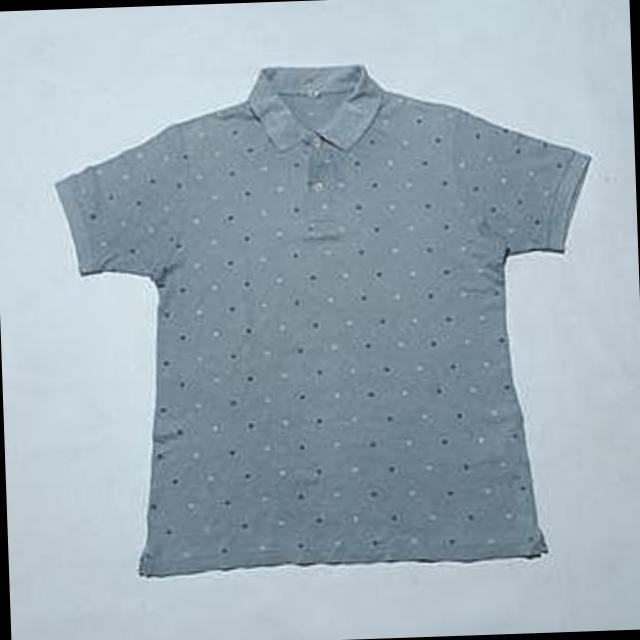T_SHIRT: (42, 48, 618, 587)
